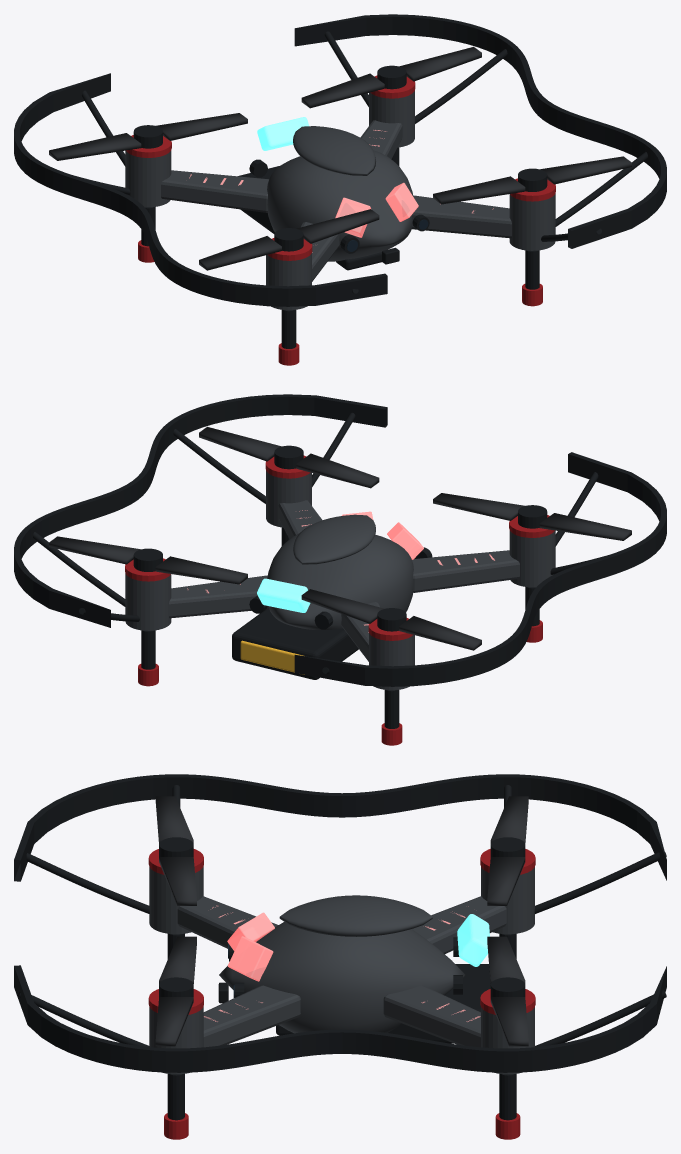
File: codrone.glb
3 views of the same model, one above another, from view 1: azimuth 30°, elevation 25°; view 2: azimuth 150°, elevation 25°; view 3: azimuth 270°, elevation 25° (orthographic). The views are drawn at different scales.
Visible parts, largest first — view 1: guard_side_left, guard_side_right, body_core, arm_rl, body_canopy_cap, arm_fr, rotor_rl_blades, rotor_fr_blades, rotor_rr_blades, rotor_fl_blades, motor_fr, motor_rl (+15 smaller); view 2: guard_side_left, guard_side_right, body_core, battery_pack, arm_fl, body_canopy_cap, arm_rr, rotor_fl_blades, rotor_rr_blades, rotor_fr_blades, rotor_rl_blades, motor_rr (+16 smaller); view 3: guard_side_right, guard_side_left, body_core, body_canopy_cap, arm_fr, arm_rr, rotor_rr_blades, rotor_fr_blades, rotor_rl_blades, rotor_fl_blades, arm_rl, arm_fl (+20 smaller).
Boxes of the visible parts, <box> form: guard_side_left: <box>14,73,387,306</box>; guard_side_right: <box>294,14,666,248</box>; body_core: <box>267,150,413,261</box>; arm_rl: <box>161,170,268,212</box>; body_canopy_cap: <box>293,126,375,175</box>; arm_fr: <box>411,195,511,238</box>; rotor_rl_blades: <box>49,113,247,160</box>; rotor_fr_blades: <box>433,156,631,204</box>; rotor_rr_blades: <box>301,46,481,108</box>; rotor_fl_blades: <box>199,209,379,270</box>; motor_fr: <box>509,193,555,250</box>; motor_rl: <box>125,150,171,207</box>; guard_side_left: <box>294,452,666,686</box>; guard_side_right: <box>14,394,387,627</box>; body_core: <box>267,533,413,629</box>; battery_pack: <box>232,609,358,679</box>; arm_fl: <box>412,550,519,592</box>; body_canopy_cap: <box>293,514,375,564</box>; arm_rr: <box>169,575,269,618</box>; rotor_fl_blades: <box>433,493,631,540</box>; rotor_rr_blades: <box>49,536,247,584</box>; rotor_fr_blades: <box>199,426,379,488</box>; rotor_rl_blades: <box>301,589,481,650</box>; motor_rr: <box>125,573,171,630</box>; guard_side_right: <box>14,965,666,1072</box>; guard_side_left: <box>14,774,666,881</box>; body_core: <box>219,922,464,1033</box>; body_canopy_cap: <box>279,895,432,936</box>; arm_fr: <box>203,985,300,1047</box>; arm_rr: <box>383,985,480,1047</box>; rotor_rr_blades: <box>487,936,528,1046</box>; rotor_fr_blades: <box>155,936,196,1046</box>; rotor_rl_blades: <box>487,796,528,905</box>; rotor_fl_blades: <box>155,796,196,905</box>; arm_rl: <box>412,896,506,953</box>; arm_fl: <box>177,896,278,948</box>.
Size of what is drawn, in the model's own units: 0.1329 by 0.0356 by 0.1323.
